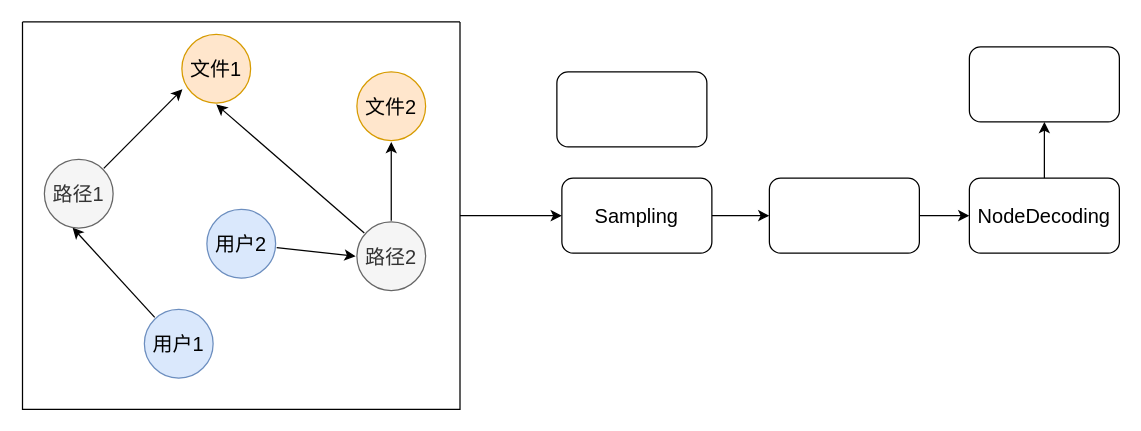
Some shapes in this 1141 by 431 pixel diagram are drawn without their labels. The shapes that lost their labels are listed below. From the top down, each one's box as (x1, y1, x2, y2) in pixels, then its label:
(968, 46, 1119, 122): classfication
(556, 71, 707, 147): 用户-路径 路径-路径 路径-文件
(768, 177, 919, 253): GNN
